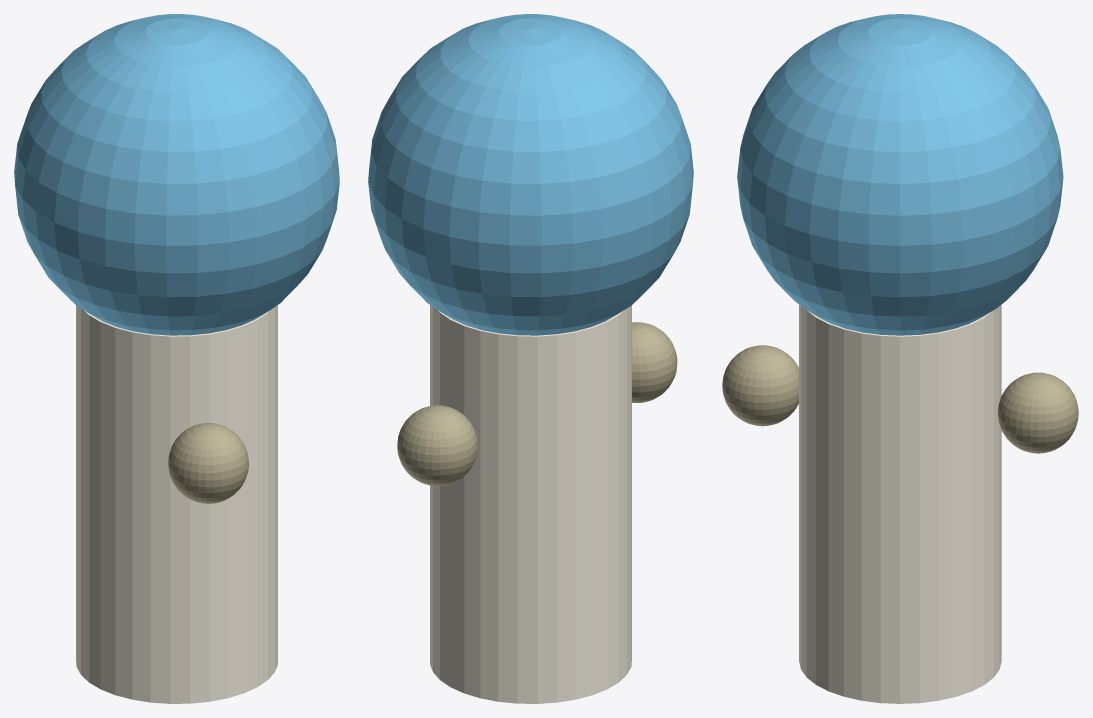
File: astronaut.glb
The picture shows the model from 3 angles, left to right: view 1: azimuth 30°, elevation 25°; view 2: azimuth 150°, elevation 25°; view 3: azimuth 270°, elevation 25°; orthographic projection.
Visible parts, largest first — view 1: helmet, body, Sphere; view 2: helmet, body, Sphere.001, Sphere; view 3: helmet, body, Sphere.001, Sphere.
Part boxes in pixels (left/top/right/bottom): helmet: left=14, top=14, right=339, bottom=335; body: left=76, top=305, right=277, bottom=703; Sphere: left=168, top=423, right=248, bottom=503; helmet: left=368, top=14, right=693, bottom=335; body: left=430, top=305, right=631, bottom=703; Sphere.001: left=397, top=405, right=477, bottom=486; Sphere: left=632, top=322, right=677, bottom=402; helmet: left=737, top=14, right=1063, bottom=335; body: left=799, top=305, right=1001, bottom=703; Sphere.001: left=997, top=372, right=1078, bottom=453; Sphere: left=722, top=345, right=798, bottom=426.
Bounding box in the file's own units: 1.61 × 3.44 × 1.76.
